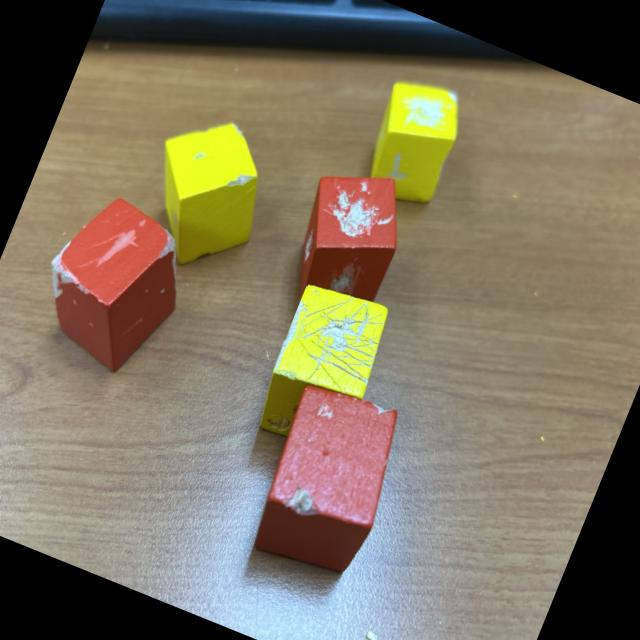broken: (20, 182, 206, 388), (239, 373, 416, 587), (123, 100, 289, 286), (248, 274, 400, 461), (274, 152, 421, 328), (353, 70, 473, 212)
